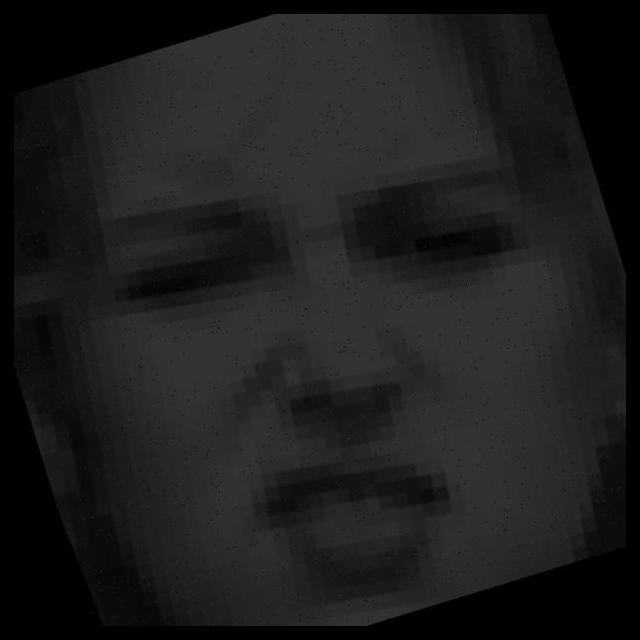Disgust: (64, 96, 581, 626)
